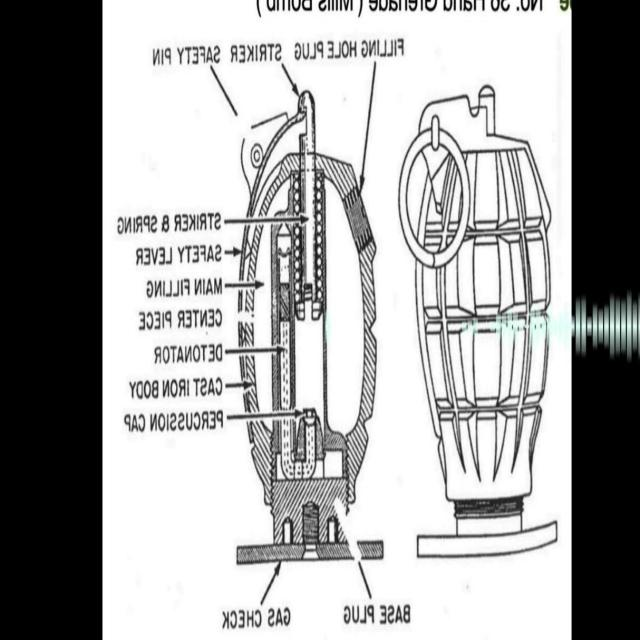grenade: (399, 86, 560, 559)
